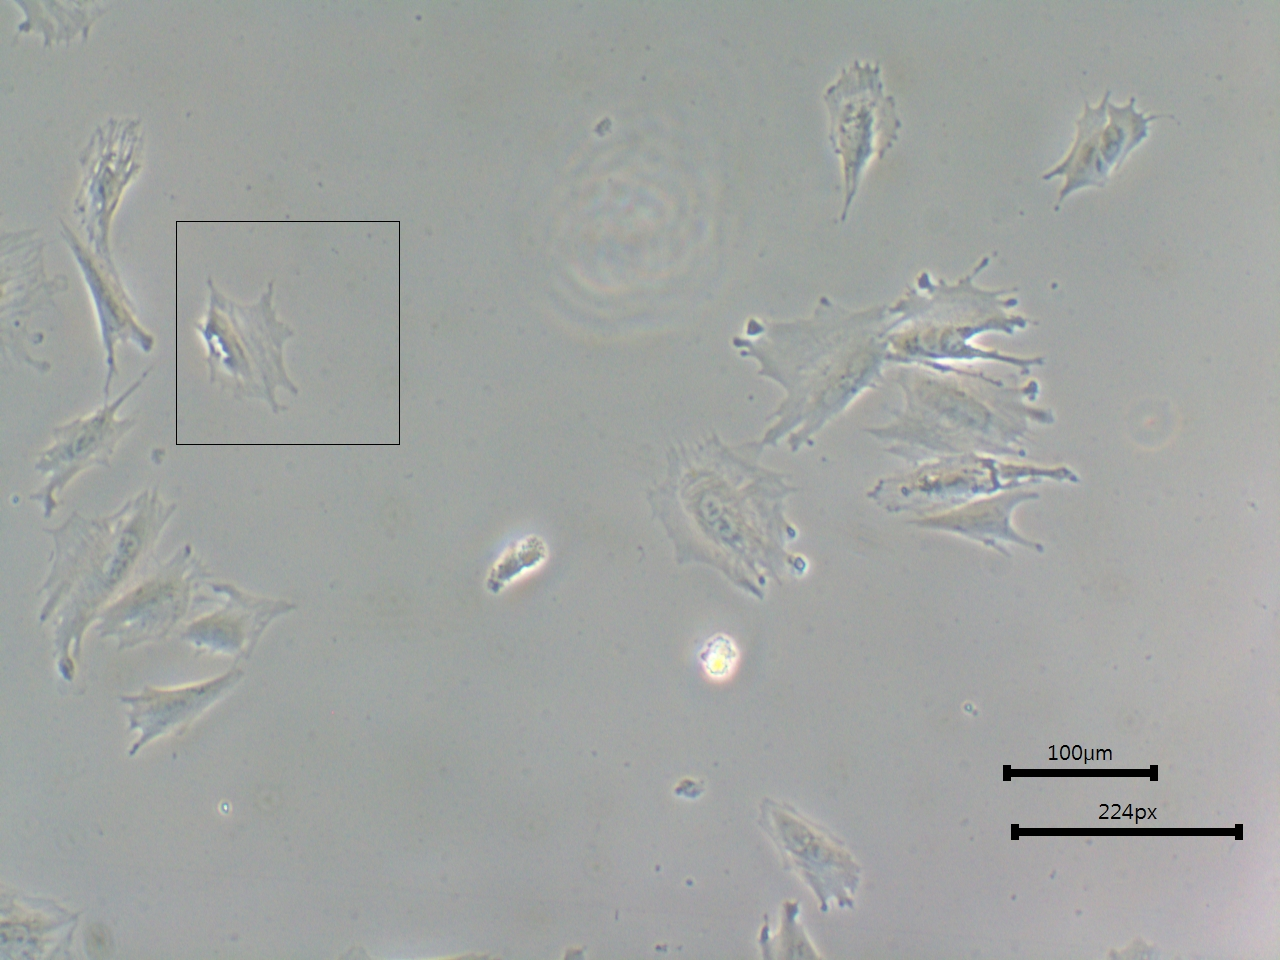dividing: (638, 438, 813, 605), (738, 284, 888, 446), (1044, 94, 1165, 210), (755, 798, 867, 915)
medium-spread: (191, 271, 308, 421), (879, 364, 1039, 464), (820, 59, 910, 221)
small-polygonal: (54, 230, 152, 368), (121, 669, 247, 763), (191, 587, 293, 668)
small-spread: (29, 389, 130, 500)
